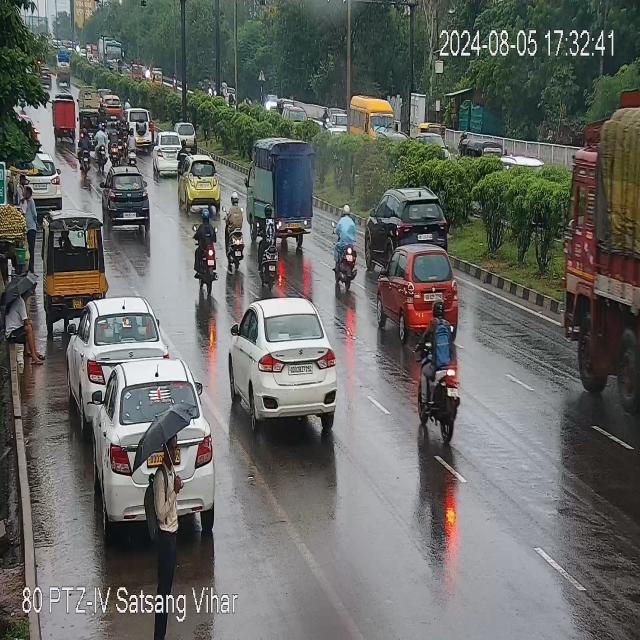2-wheelers: (414, 305, 457, 437), (328, 203, 358, 291), (254, 199, 280, 289), (192, 212, 218, 301), (223, 198, 246, 273)
auto: (252, 134, 314, 246), (50, 212, 107, 295), (57, 83, 78, 143)
car: (100, 363, 212, 522), (233, 304, 339, 426), (71, 299, 176, 388), (382, 250, 460, 336), (367, 190, 451, 262), (106, 168, 152, 232), (178, 157, 222, 210), (21, 161, 63, 208), (124, 106, 152, 155), (156, 135, 188, 176)
pedestrian: (152, 440, 174, 633), (5, 284, 42, 368), (22, 185, 38, 267)
truck: (568, 94, 640, 400)
